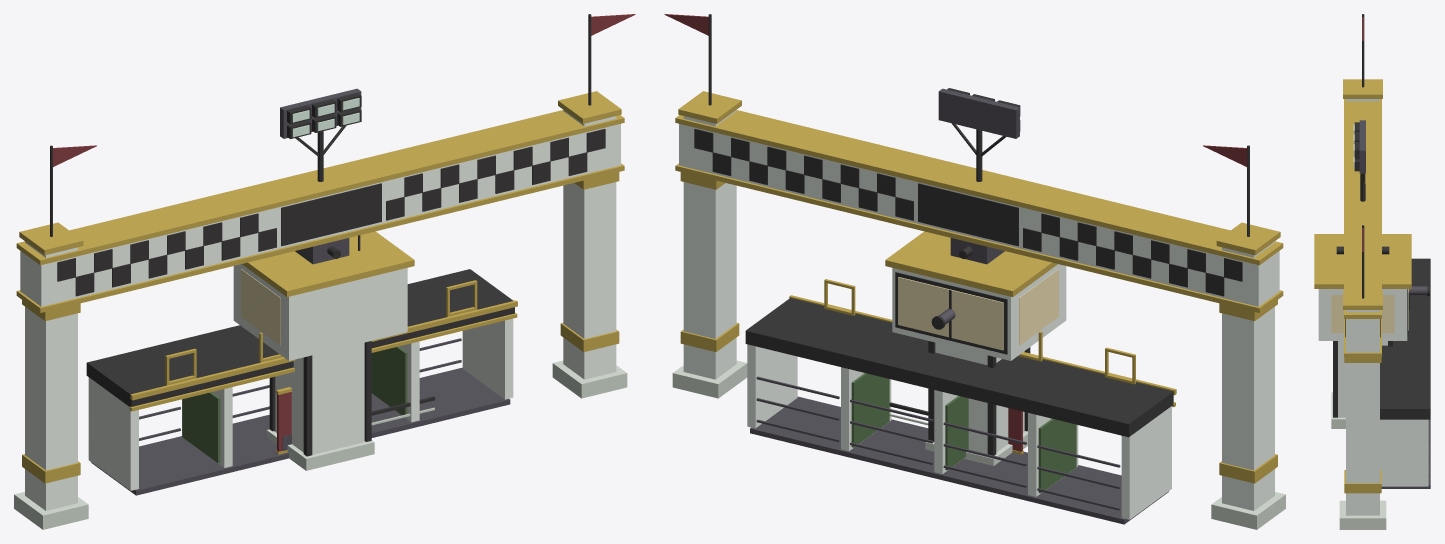
File: downs-course.glb
The picture shows the model from 3 angles, left to right: view 1: azimuth 30°, elevation 25°; view 2: azimuth 150°, elevation 25°; view 3: azimuth 270°, elevation 25°; orthographic projection. The views are drawn at different scales.
Parts seen in each view (by area): view 1: dn_finish_arch_mint, dn_finish_arch_gold, dn_photo_tower_mint, dn_finish_arch_black, dn_gate_frame_black, dn_gate_frame_black2, dn_gate_frame_mint, dn_photo_tower_gold, dn_gate_frame_gold, dn_gate_frame_money2, dn_finish_arch_mint2, dn_photo_tower_black (+8 smaller); view 2: dn_finish_arch_mint, dn_finish_arch_gold, dn_gate_frame_black, dn_gate_frame_black2, dn_finish_arch_black, dn_gate_frame_mint, dn_photo_tower_glasswarm, dn_gate_frame_money2, dn_photo_tower_mint, dn_photo_tower_gold, dn_finish_arch_mint2, dn_photo_tower_black (+5 smaller); view 3: dn_finish_arch_gold, dn_finish_arch_mint, dn_gate_frame_black, dn_gate_frame_mint, dn_photo_tower_gold, dn_photo_tower_mint, dn_photo_tower_glasswarm, dn_finish_arch_mint2, dn_finish_arch_black, dn_photo_tower_black, dn_flood_black, dn_flood_black2 (+3 smaller).
Part boxes in pixels (bbox=[...]): dn_finish_arch_mint: bbox=[20, 110, 620, 510]; dn_finish_arch_gold: bbox=[16, 91, 624, 483]; dn_photo_tower_mint: bbox=[233, 264, 407, 454]; dn_finish_arch_black: bbox=[50, 14, 605, 296]; dn_gate_frame_black: bbox=[86, 269, 514, 406]; dn_gate_frame_black2: bbox=[91, 338, 510, 495]; dn_gate_frame_mint: bbox=[88, 318, 513, 490]; dn_photo_tower_gold: bbox=[242, 231, 414, 296]; dn_gate_frame_gold: bbox=[129, 280, 517, 411]; dn_gate_frame_money2: bbox=[182, 346, 407, 463]; dn_finish_arch_mint2: bbox=[14, 360, 627, 529]; dn_photo_tower_black: bbox=[269, 235, 371, 456]; dn_finish_arch_mint: bbox=[679, 110, 1279, 510]; dn_finish_arch_gold: bbox=[675, 91, 1283, 483]; dn_gate_frame_black: bbox=[745, 298, 1173, 437]; dn_gate_frame_black2: bbox=[750, 376, 1168, 524]; dn_finish_arch_black: bbox=[694, 14, 1249, 296]; dn_gate_frame_mint: bbox=[747, 344, 1171, 519]; dn_photo_tower_glasswarm: bbox=[898, 269, 1058, 350]; dn_gate_frame_money2: bbox=[851, 373, 1076, 493]; dn_photo_tower_mint: bbox=[892, 264, 1066, 453]; dn_photo_tower_gold: bbox=[885, 231, 1057, 296]; dn_finish_arch_mint2: bbox=[672, 360, 1285, 529]; dn_photo_tower_black: bbox=[895, 272, 1030, 455]; dn_finish_arch_gold: bbox=[1343, 79, 1382, 493]; dn_finish_arch_mint: bbox=[1346, 99, 1379, 515]; dn_gate_frame_black: bbox=[1380, 258, 1430, 419]; dn_gate_frame_mint: bbox=[1380, 419, 1428, 486]; dn_photo_tower_gold: bbox=[1314, 234, 1411, 288]; dn_photo_tower_mint: bbox=[1318, 289, 1407, 417]; dn_photo_tower_glasswarm: bbox=[1331, 289, 1408, 333]; dn_finish_arch_mint2: bbox=[1339, 500, 1386, 529]; dn_finish_arch_black: bbox=[1336, 14, 1389, 337]; dn_photo_tower_black: bbox=[1333, 285, 1429, 417]; dn_flood_black: bbox=[1354, 122, 1365, 201]; dn_flood_black2: bbox=[1359, 120, 1365, 173].
Size of the model in its own units: 26.6 by 15.4 by 5.5.
